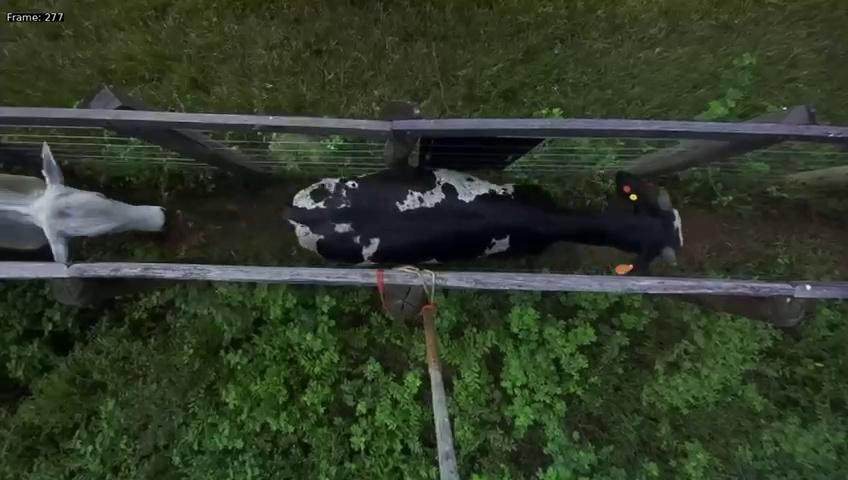cattle: (275, 147, 701, 282)
